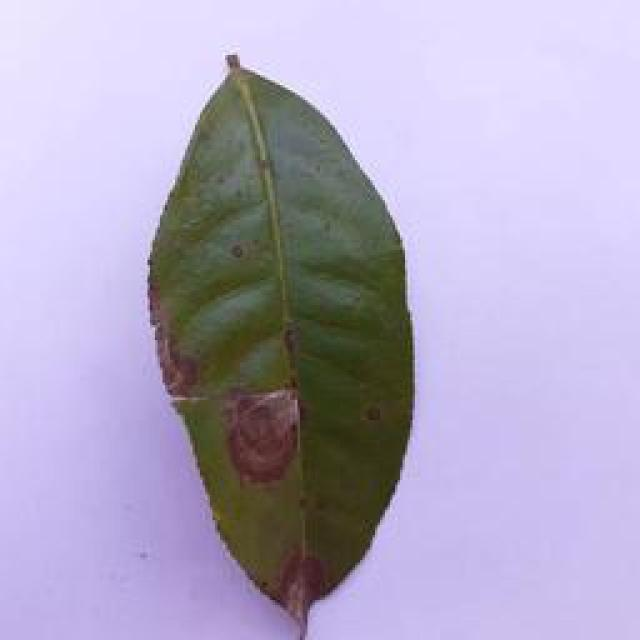Gray Blight: (140, 44, 426, 640)
